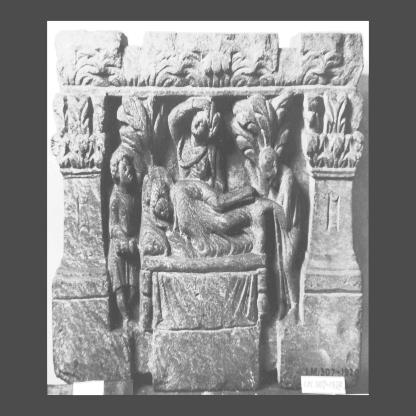buddha-sleeping: (139, 166, 271, 329)
